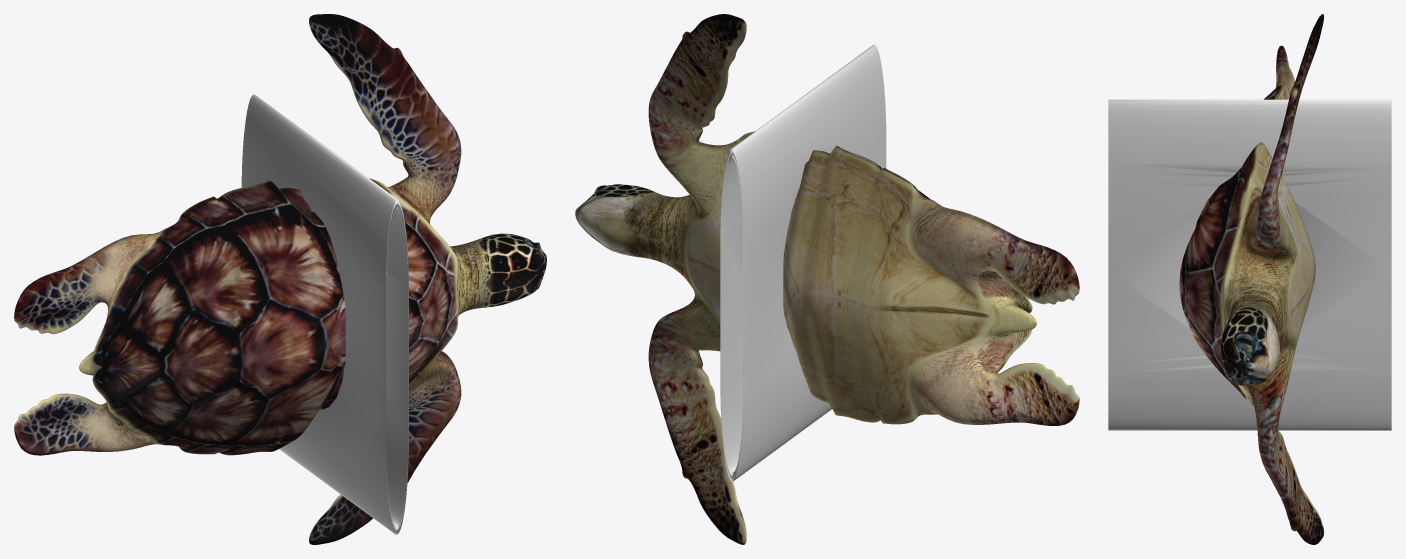
File: turtleWPlastic.fbx
3 renders of one model, left to right at view 1: azimuth 30°, elevation 25°; view 2: azimuth 150°, elevation 25°; view 3: azimuth 270°, elevation 25°, orthographic.
Parts seen in each view (by area): view 1: 10042_Sea_Turtle_V1, Mesh1 Group1 Model; view 2: 10042_Sea_Turtle_V1, Mesh1 Group1 Model; view 3: Mesh1 Group1 Model, 10042_Sea_Turtle_V1.
Boxes of the visible parts, left/top/right/bottom form: 10042_Sea_Turtle_V1: left=14, top=14, right=546, bottom=544; Mesh1 Group1 Model: left=241, top=94, right=408, bottom=534; 10042_Sea_Turtle_V1: left=575, top=14, right=1079, bottom=544; Mesh1 Group1 Model: left=720, top=44, right=886, bottom=481; Mesh1 Group1 Model: left=1108, top=99, right=1391, bottom=430; 10042_Sea_Turtle_V1: left=1179, top=14, right=1324, bottom=544.
Size of the model in its own units: 10402 by 10170 by 4989.
